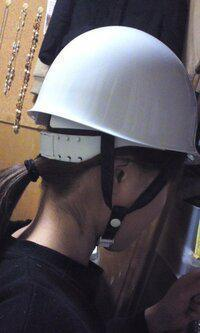helmet: (27, 26, 199, 158)
